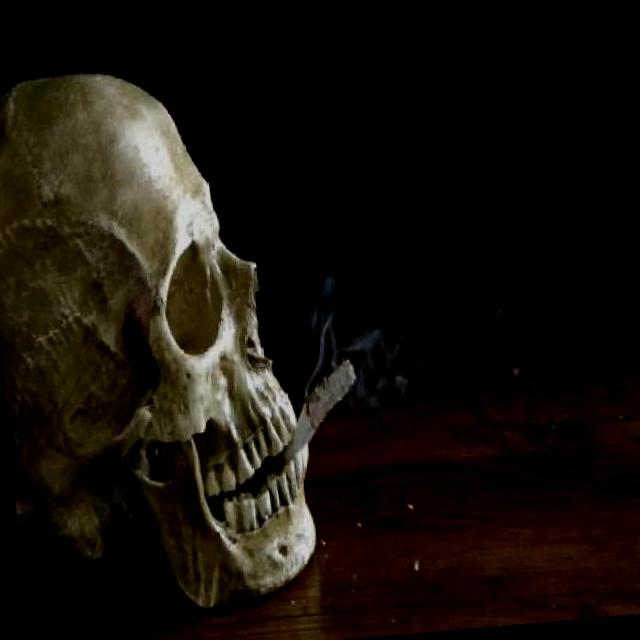cigarette: (258, 354, 368, 477)
